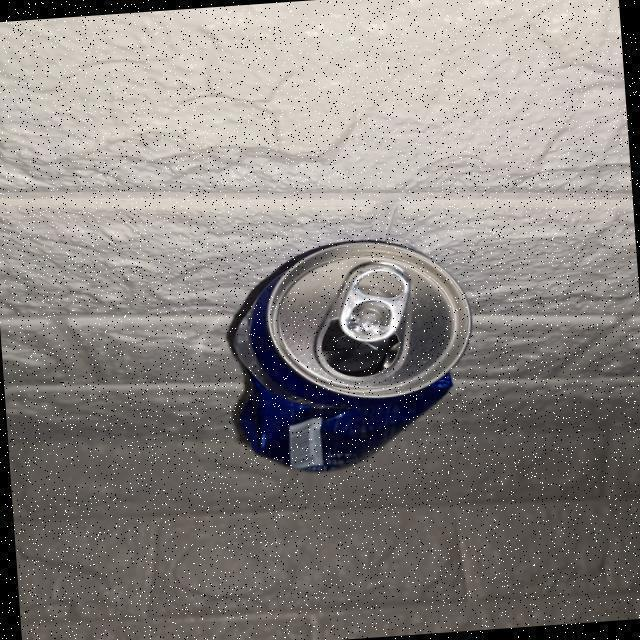metal-can: (208, 234, 484, 485)
